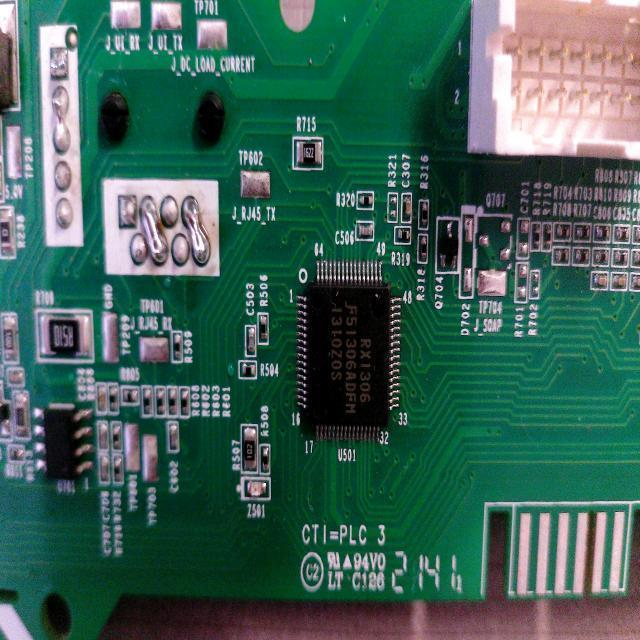Soldering shorted: (180, 188, 210, 272), (139, 192, 169, 270), (51, 84, 70, 155)
